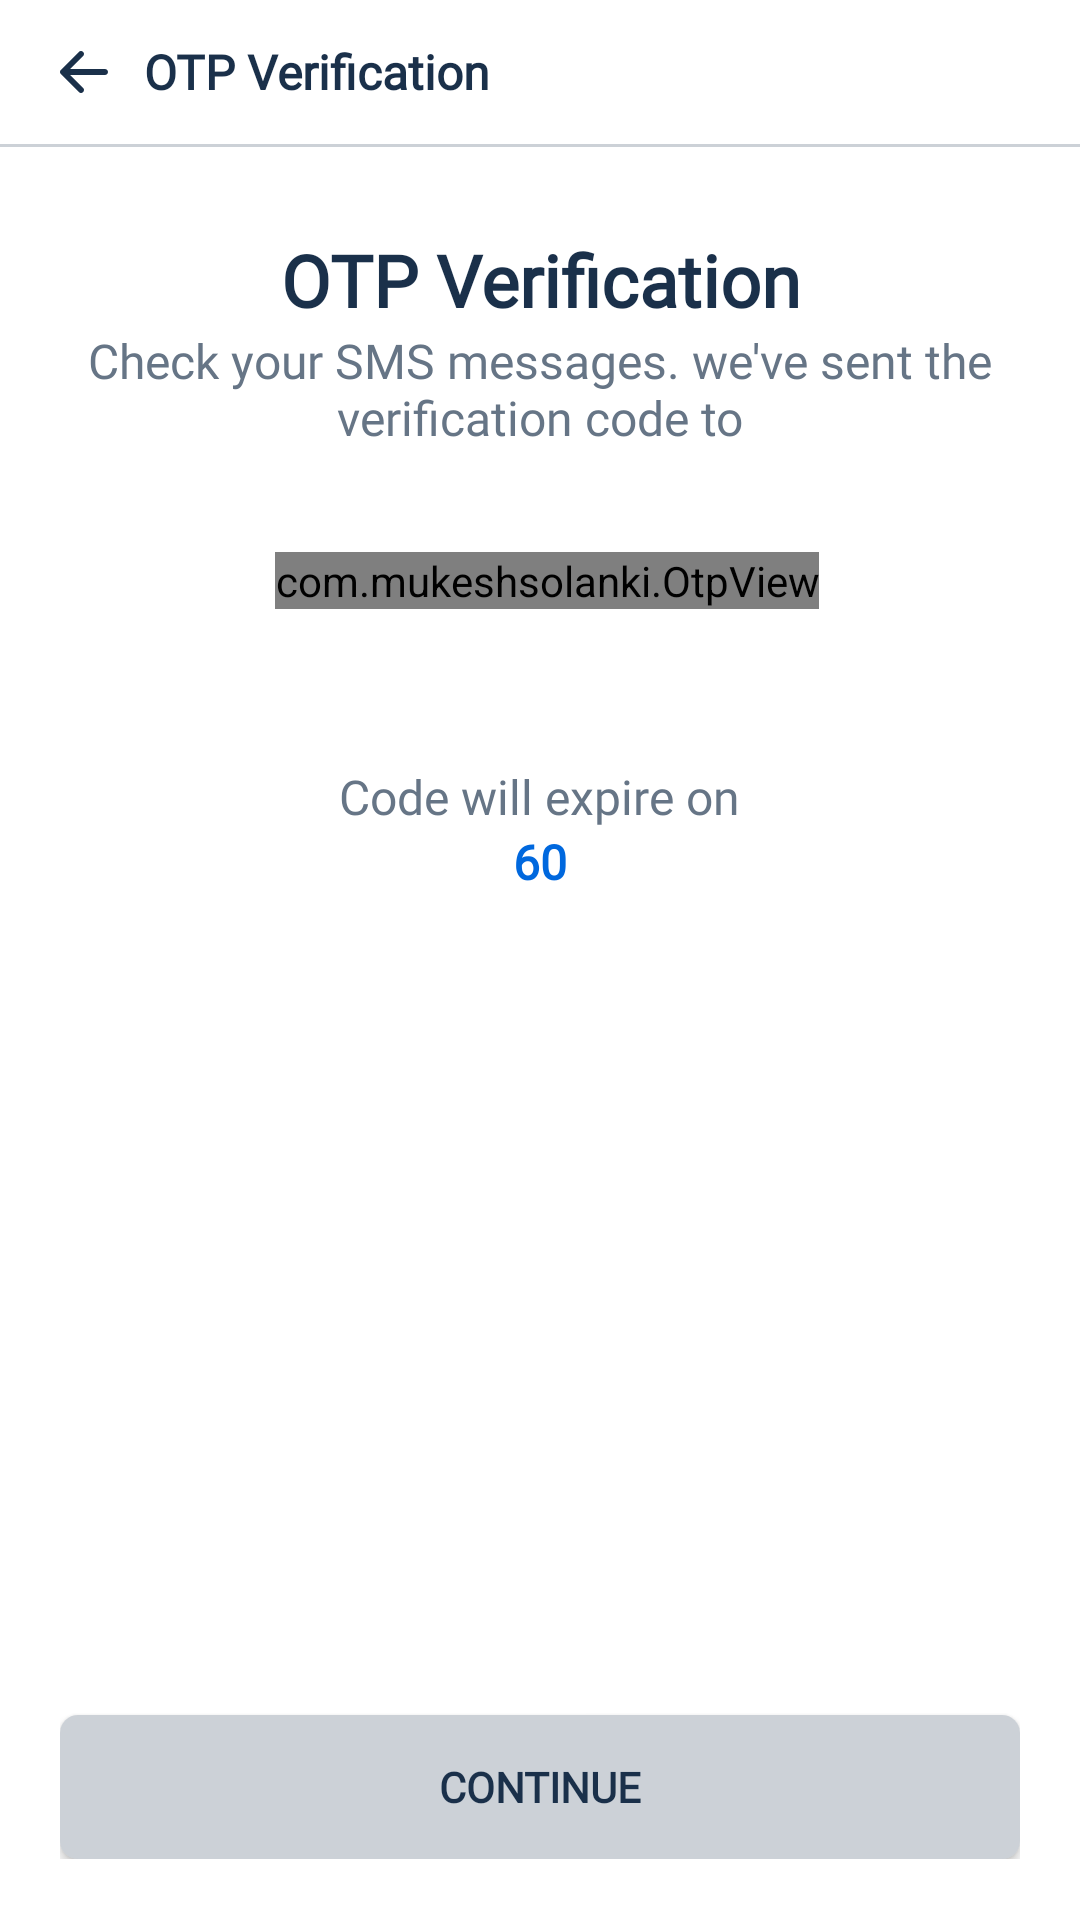

Screen size 1080px×1920px. Icon name, then its center in pixels as [x,y]:
back: [84,72]
